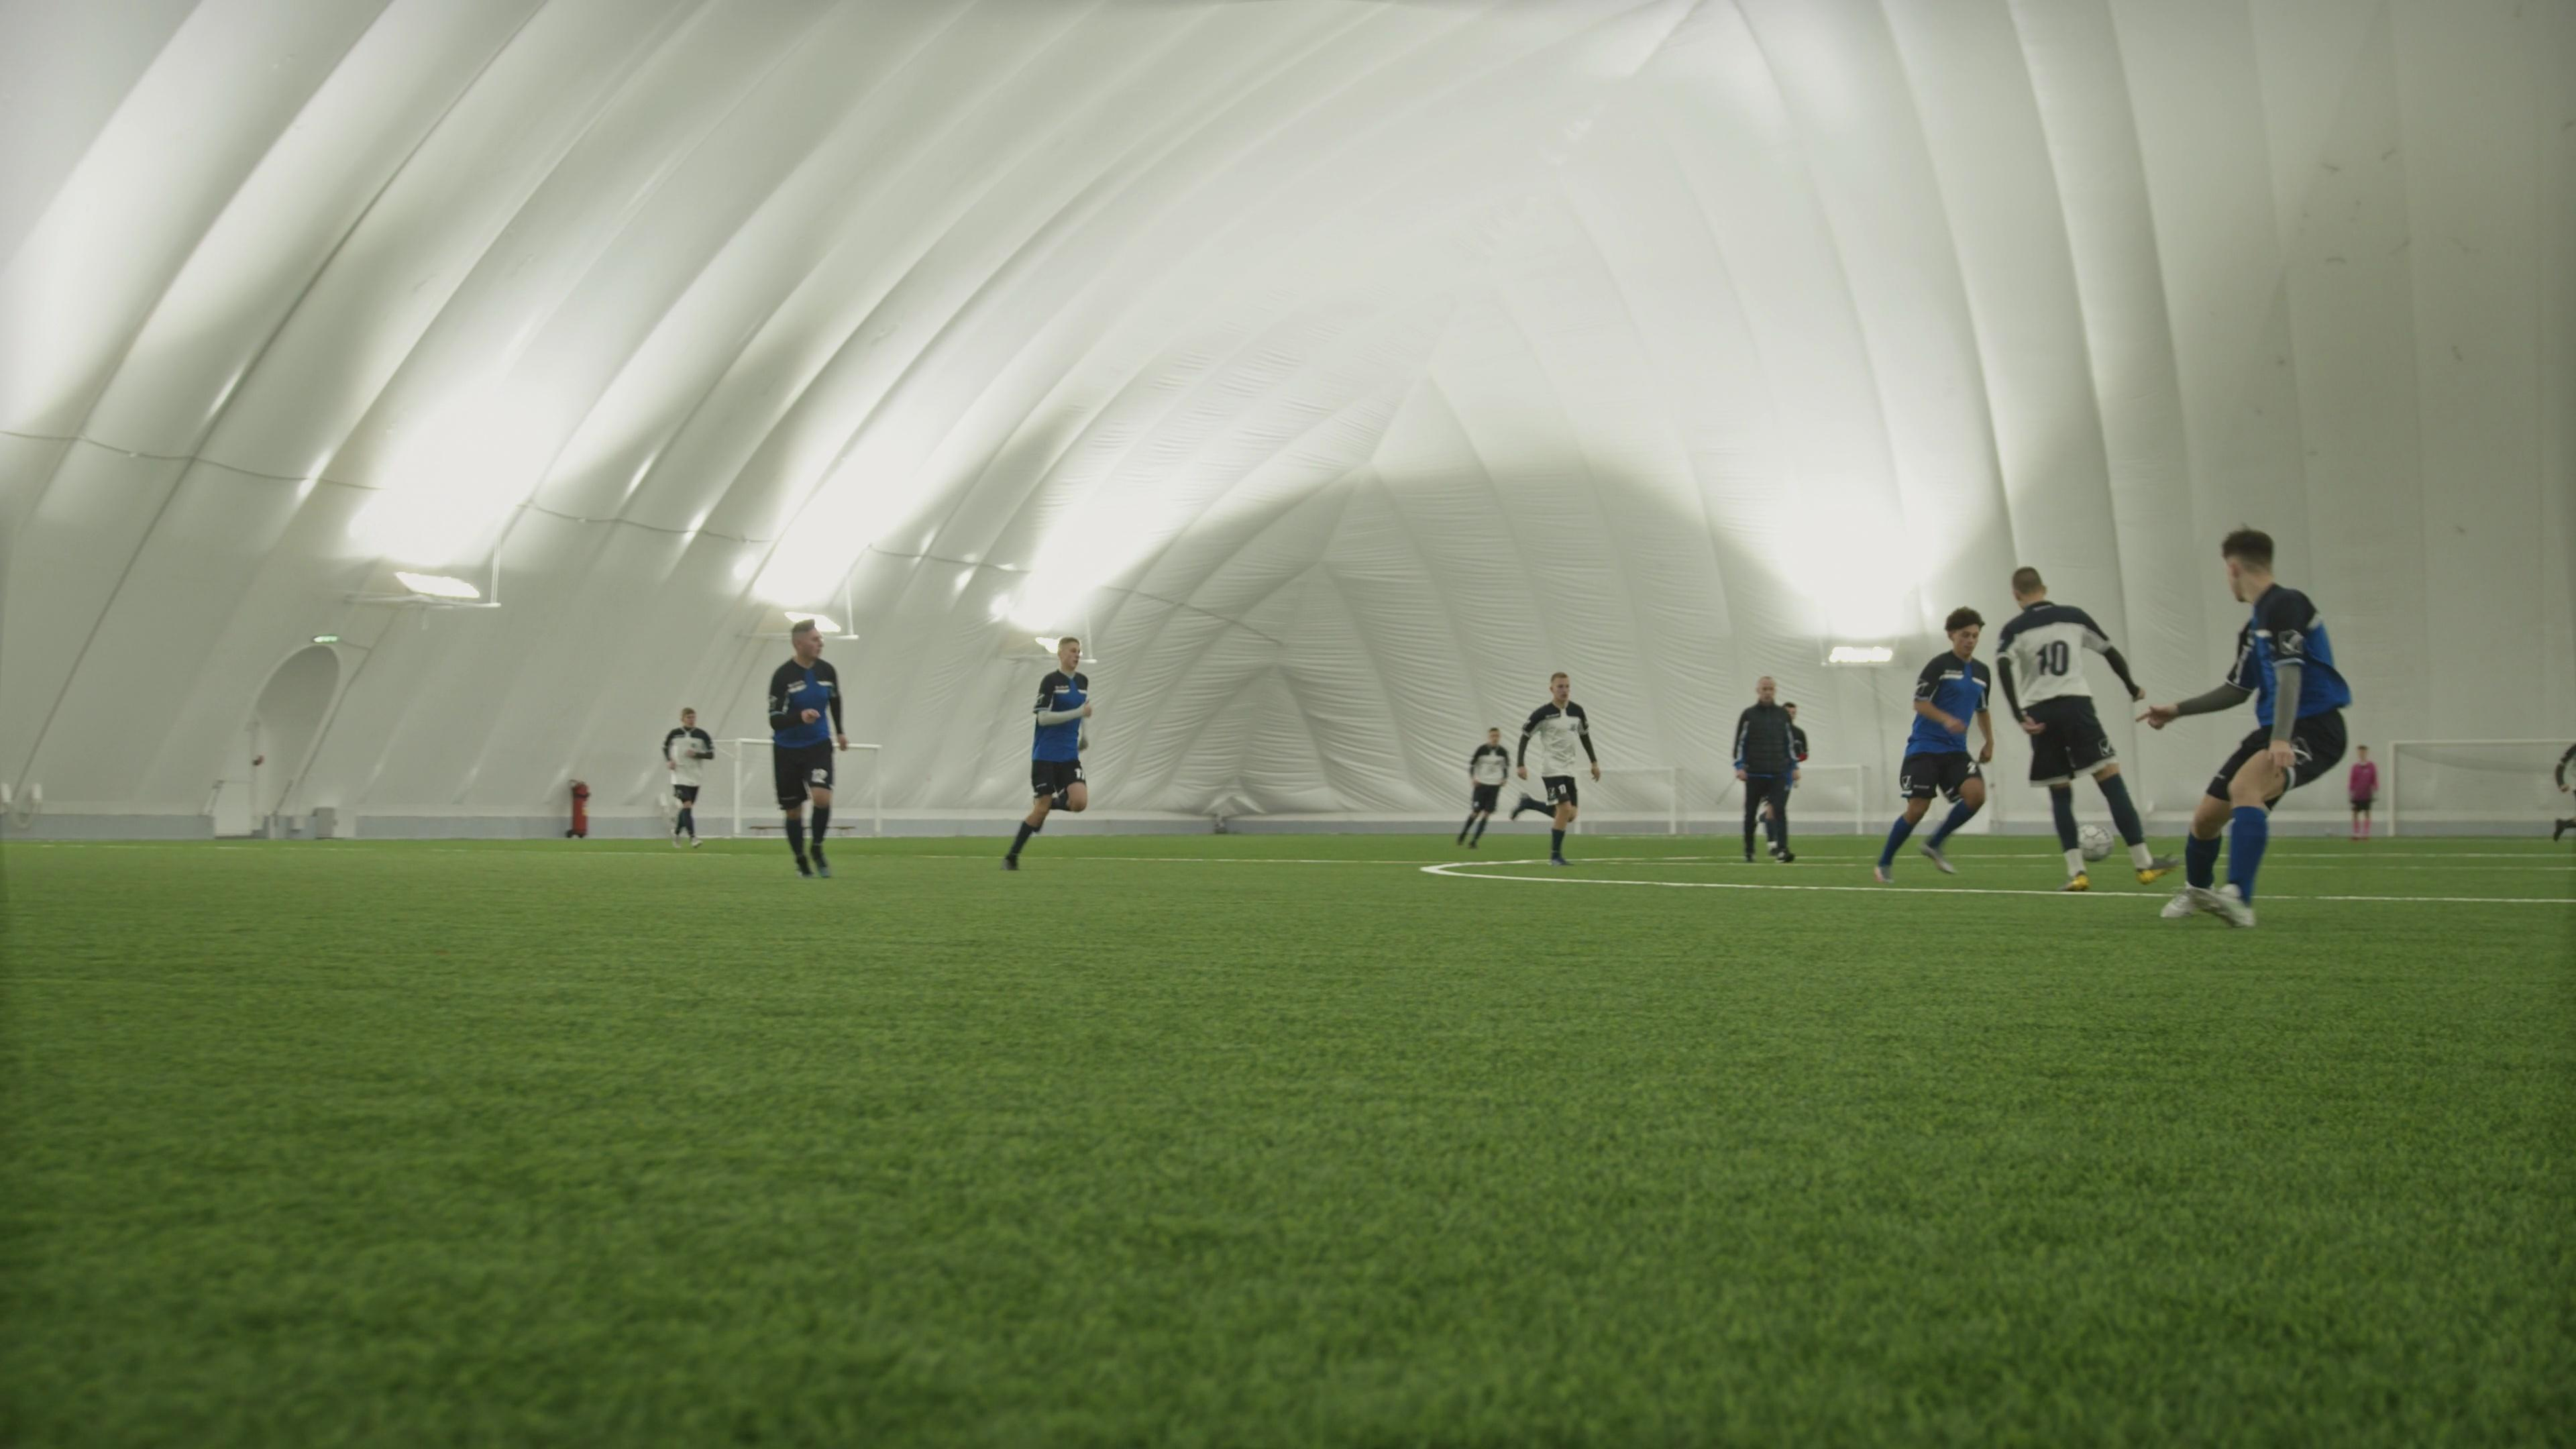other: (1732, 676, 1812, 863)
team1: (2141, 527, 2348, 932), (1867, 603, 2003, 883), (1000, 633, 1090, 872), (766, 617, 847, 881), (660, 704, 720, 846)
team1gk: (2344, 731, 2383, 840)
team2: (1990, 561, 2162, 888), (1511, 669, 1599, 869), (1454, 725, 1514, 856)
